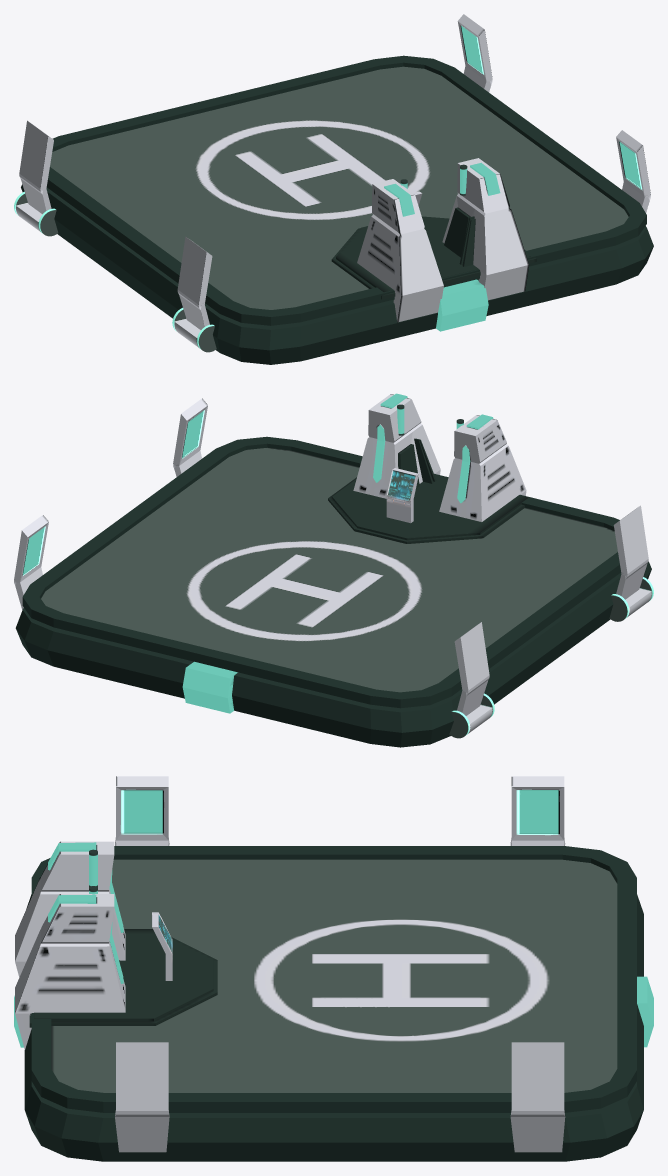
Rendered from Helicopter Landing Area.fbx.
3 renders of one model, top to bottom at view 1: azimuth 30°, elevation 25°; view 2: azimuth 150°, elevation 25°; view 3: azimuth 270°, elevation 25°, orthographic. The views are drawn at different scales.
Visible parts, largest first — view 1: HelicopterLandingArea; view 2: HelicopterLandingArea; view 3: HelicopterLandingArea.
Boxes of the visible parts, bbox=[...] form: HelicopterLandingArea: bbox=[14, 14, 653, 364]; HelicopterLandingArea: bbox=[14, 393, 653, 747]; HelicopterLandingArea: bbox=[14, 776, 653, 1161].
Size of the model in its own units: 1084 by 299 by 1057.
